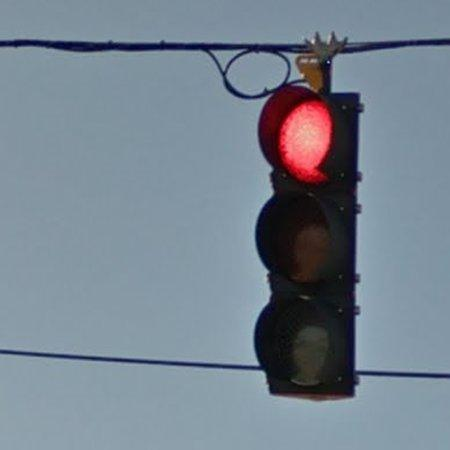traffic lights: (253, 85, 365, 397)
